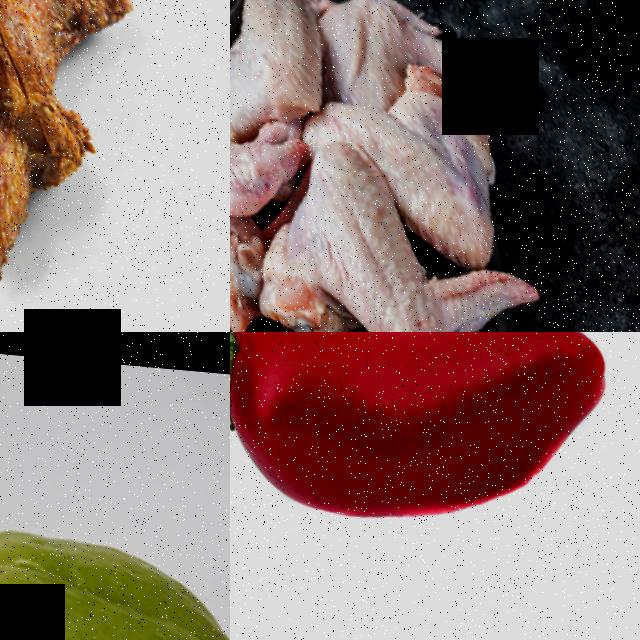chayote: (0, 473, 230, 640)
chicken thigh: (0, 0, 230, 332)
chicken wing: (230, 85, 548, 332), (290, 0, 537, 147)
chilli: (230, 332, 640, 606)
